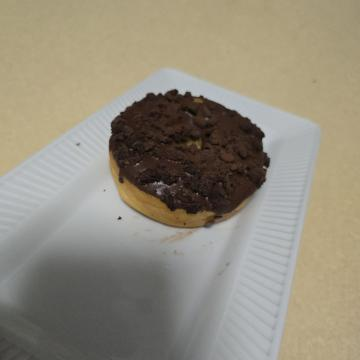doughnut: (79, 76, 239, 262)
